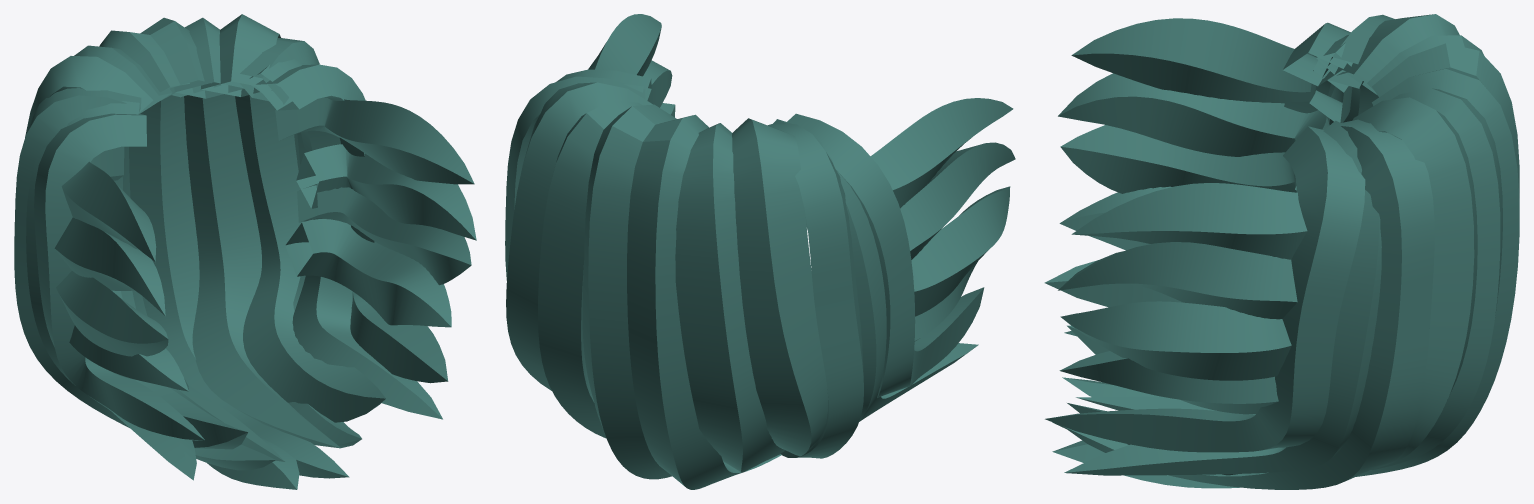
Rendered from Body_007.fbx.
The picture shows the model from 3 angles, left to right: view 1: azimuth 30°, elevation 25°; view 2: azimuth 150°, elevation 25°; view 3: azimuth 270°, elevation 25°; orthographic projection. The views are drawn at different scales.
Visible parts, largest first — view 1: Body.007; view 2: Body.007; view 3: Body.007.
Boxes of the visible parts, x1=… form: Body.007: x1=14, y1=14, x2=476, y2=489; Body.007: x1=505, y1=14, x2=1015, y2=489; Body.007: x1=1044, y1=14, x2=1519, y2=489.
Size of the model in its own units: 105 by 102 by 105.
